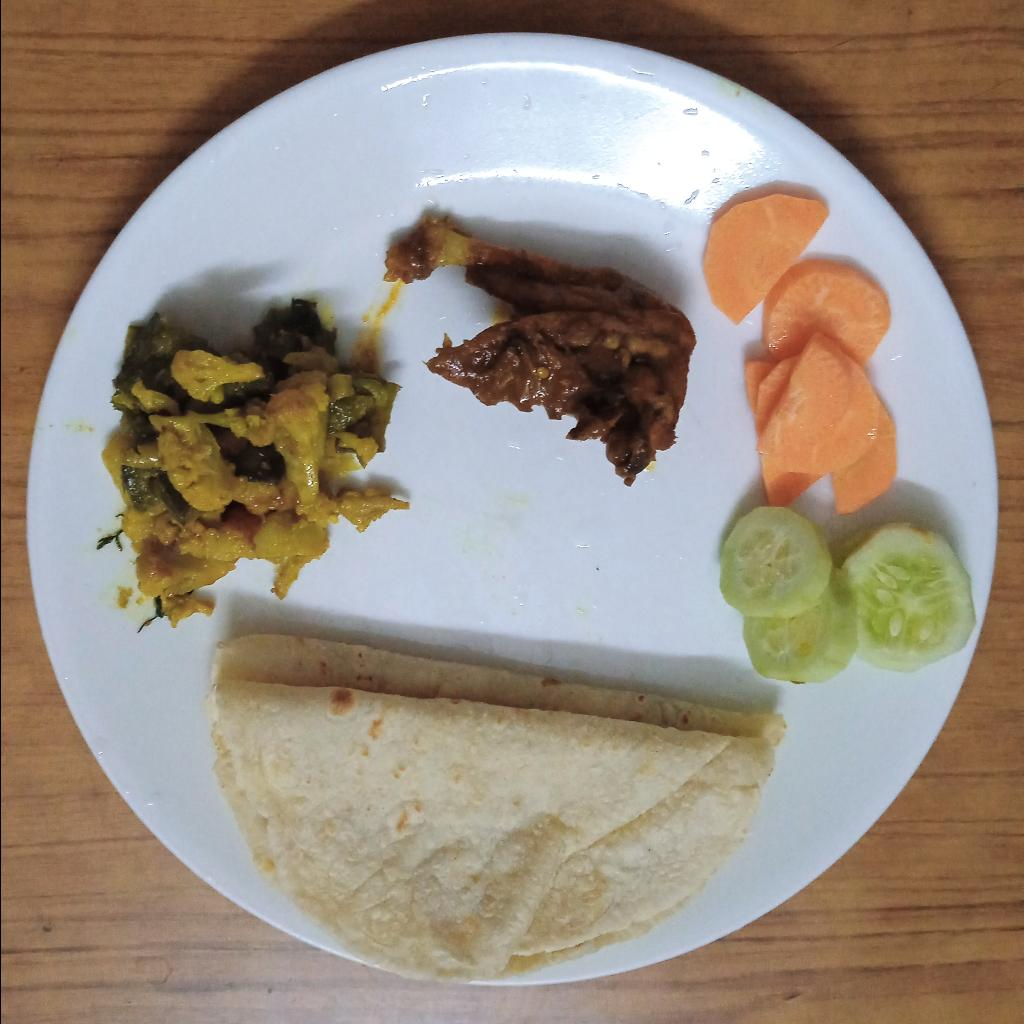carrot: (695, 192, 898, 514)
cauliflower: (93, 296, 412, 625)
chicken: (377, 216, 695, 488)
cucumber: (713, 508, 976, 683)
ruti: (203, 632, 785, 983)
